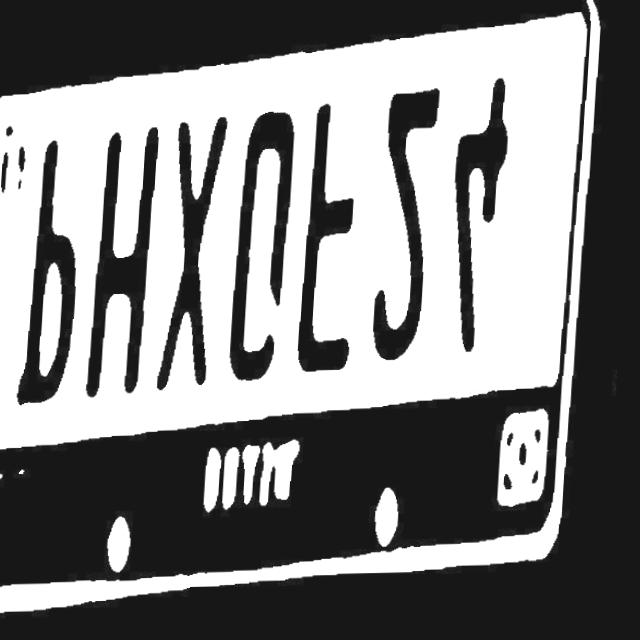0: (223, 110, 306, 381)
2: (355, 93, 454, 371)
4: (440, 74, 532, 354)
f: (285, 105, 370, 389)
h: (80, 110, 177, 409)
p: (12, 129, 86, 412)
x: (149, 115, 242, 401)
